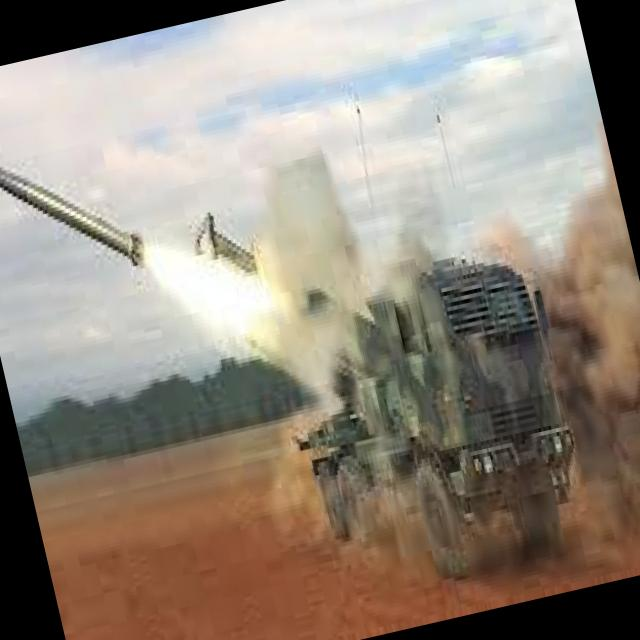rocket: (0, 97, 241, 391)
